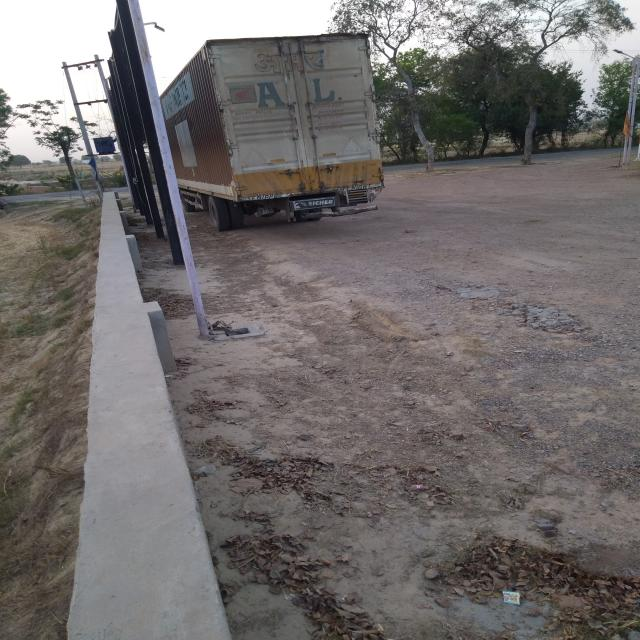truck: (161, 34, 388, 212)
